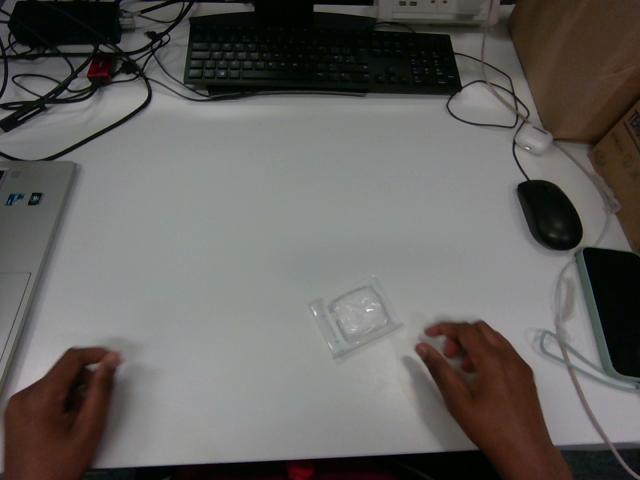gauze: (309, 276, 401, 357)
